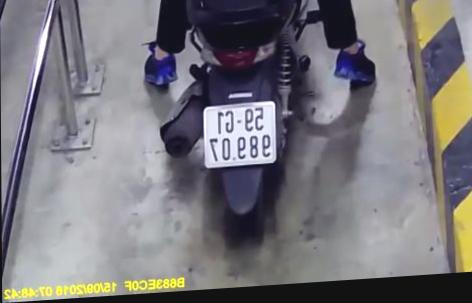License_Plate: (201, 95, 284, 173)
